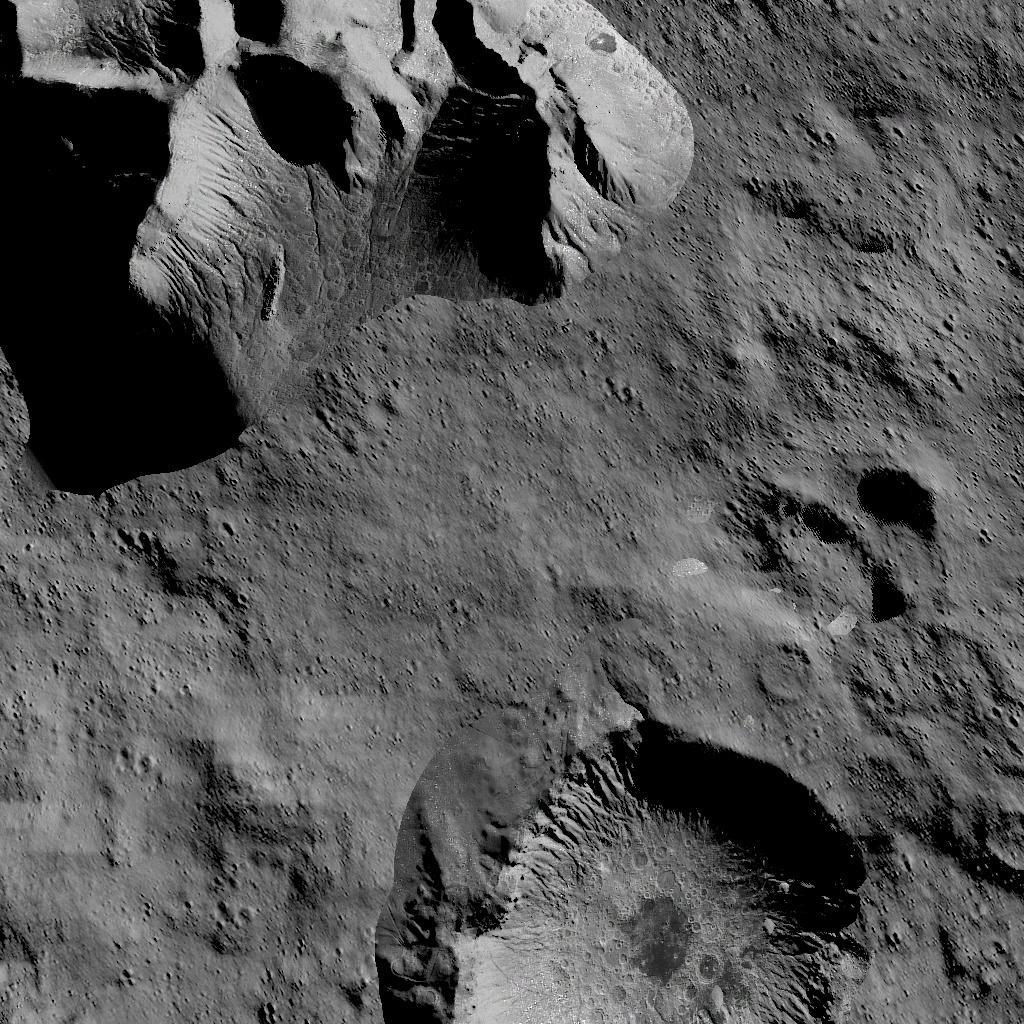Boulders: (0, 0, 688, 487)
Crater: (371, 716, 880, 1024), (742, 460, 938, 620), (965, 790, 1024, 874), (744, 640, 821, 696)
Plan surface: (5, 500, 357, 1024), (701, 4, 1024, 430), (369, 500, 732, 704)
